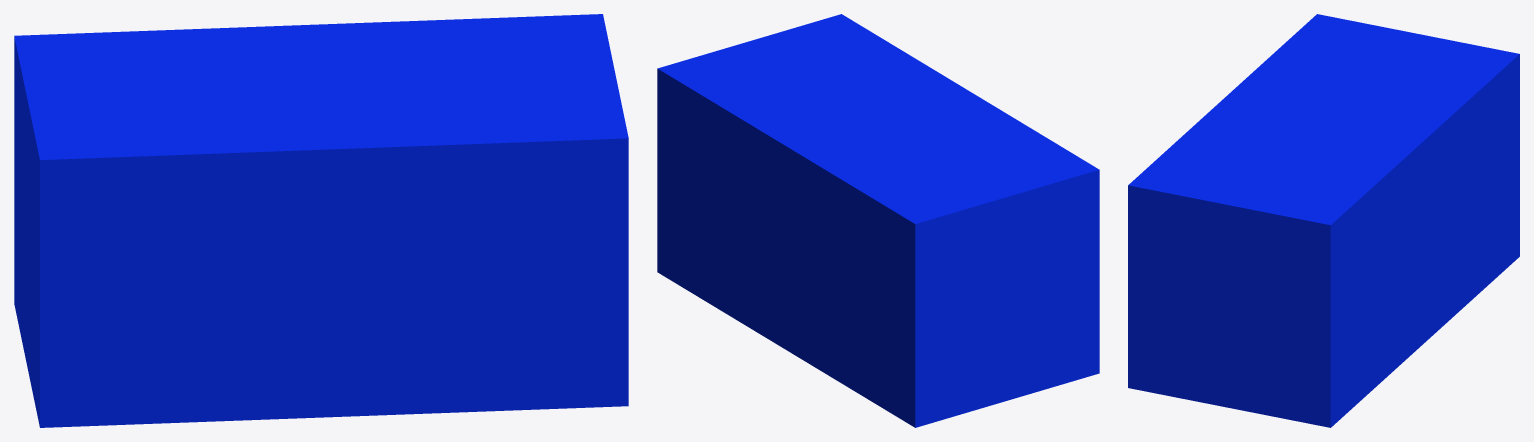
The model's file is BlueCuboid0622.FBX.
The picture shows the model from 3 angles, left to right: view 1: azimuth 30°, elevation 25°; view 2: azimuth 150°, elevation 25°; view 3: azimuth 270°, elevation 25°; orthographic projection. The views are drawn at different scales.
Visible parts, largest first — view 1: BlueCuboid; view 2: BlueCuboid; view 3: BlueCuboid.
Part boxes in pixels (left/top/right/bottom): BlueCuboid: left=14, top=14, right=628, bottom=427; BlueCuboid: left=657, top=14, right=1099, bottom=427; BlueCuboid: left=1128, top=14, right=1519, bottom=427.
Bounding box in the file's own units: 11.18 × 5 × 8.76.
